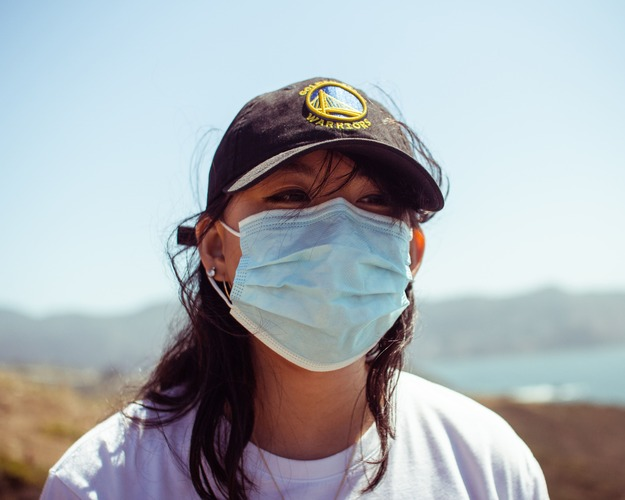with_mask: (231, 160, 410, 351)
